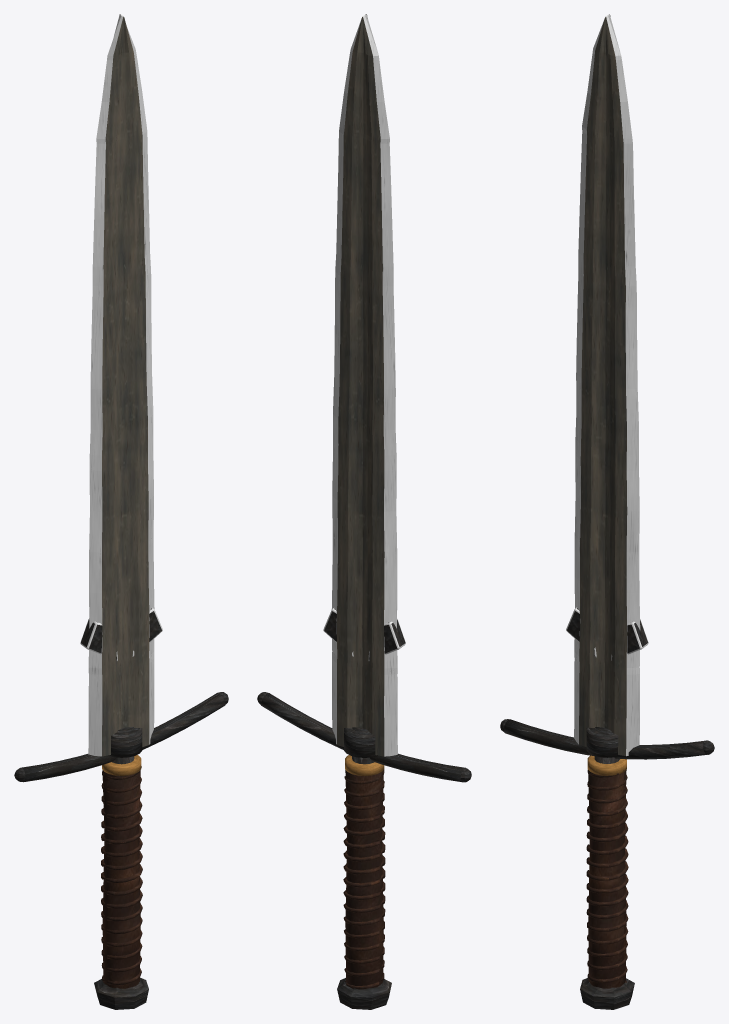
The model's file is gloam_zweihander.glb.
3 views of the same model, side by side, from view 1: azimuth 30°, elevation 25°; view 2: azimuth 150°, elevation 25°; view 3: azimuth 330°, elevation 25° (orthographic).
Visible parts, largest first — view 1: Forged Blade with Eased Bevels.008, Bound palm grip.014, Continuous bound leather seam.014, Hand-forged crossguard.008, Faceted heavy pommel.001, Rounded blade shoulder.008, Ricasso parrying lug, Grip forward ferrule.014; view 2: Forged Blade with Eased Bevels.008, Bound palm grip.014, Continuous bound leather seam.014, Hand-forged crossguard.008, Faceted heavy pommel.001, Rounded blade shoulder.008, Ricasso parrying lug, Grip forward ferrule.014; view 3: Forged Blade with Eased Bevels.008, Bound palm grip.014, Continuous bound leather seam.014, Hand-forged crossguard.008, Faceted heavy pommel.001, Rounded blade shoulder.008, Ricasso parrying lug.001, Grip forward ferrule.014.
Boxes of the visible parts, left/top/right/bottom form: Forged Blade with Eased Bevels.008: left=88, top=14, right=154, bottom=756; Bound palm grip.014: left=102, top=770, right=140, bottom=988; Continuous bound leather seam.014: left=101, top=766, right=142, bottom=985; Hand-forged crossguard.008: left=20, top=692, right=225, bottom=782; Faceted heavy pommel.001: left=94, top=977, right=148, bottom=1009; Rounded blade shoulder.008: left=108, top=728, right=142, bottom=757; Ricasso parrying lug: left=80, top=618, right=117, bottom=660; Grip forward ferrule.014: left=102, top=755, right=141, bottom=775; Forged Blade with Eased Bevels.008: left=331, top=14, right=397, bottom=756; Bound palm grip.014: left=345, top=770, right=383, bottom=987; Continuous bound leather seam.014: left=343, top=769, right=385, bottom=989; Hand-forged crossguard.008: left=260, top=693, right=465, bottom=782; Faceted heavy pommel.001: left=337, top=978, right=391, bottom=1009; Rounded blade shoulder.008: left=344, top=728, right=377, bottom=757; Ricasso parrying lug: left=368, top=618, right=405, bottom=660; Grip forward ferrule.014: left=345, top=755, right=384, bottom=775; Forged Blade with Eased Bevels.008: left=574, top=14, right=640, bottom=756; Bound palm grip.014: left=588, top=770, right=626, bottom=988; Continuous bound leather seam.014: left=586, top=770, right=628, bottom=982; Hand-forged crossguard.008: left=504, top=719, right=707, bottom=759; Faceted heavy pommel.001: left=580, top=978, right=634, bottom=1009; Rounded blade shoulder.008: left=586, top=727, right=620, bottom=757; Ricasso parrying lug.001: left=611, top=619, right=648, bottom=660; Grip forward ferrule.014: left=587, top=755, right=626, bottom=775.
Bounding box in the file's own units: 0.4086 × 1.82 × 0.0933.
5 materials, 5 textured.
